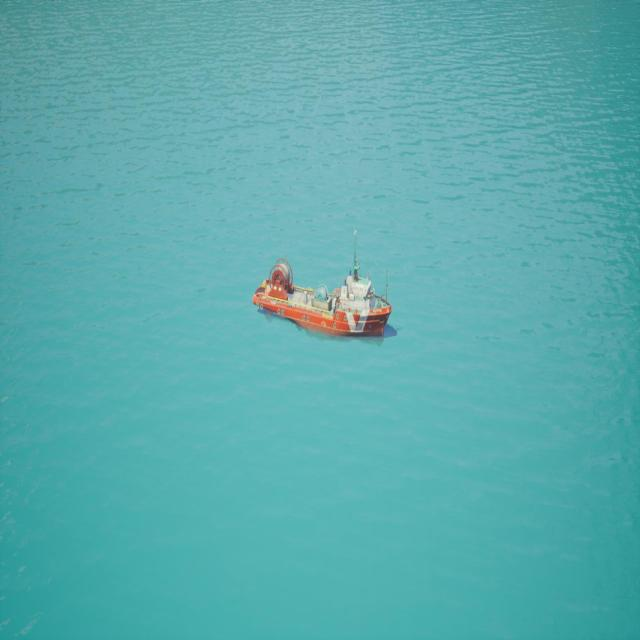tug boat: (255, 230, 395, 339)
